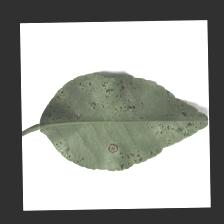canker: (59, 86, 176, 159)
